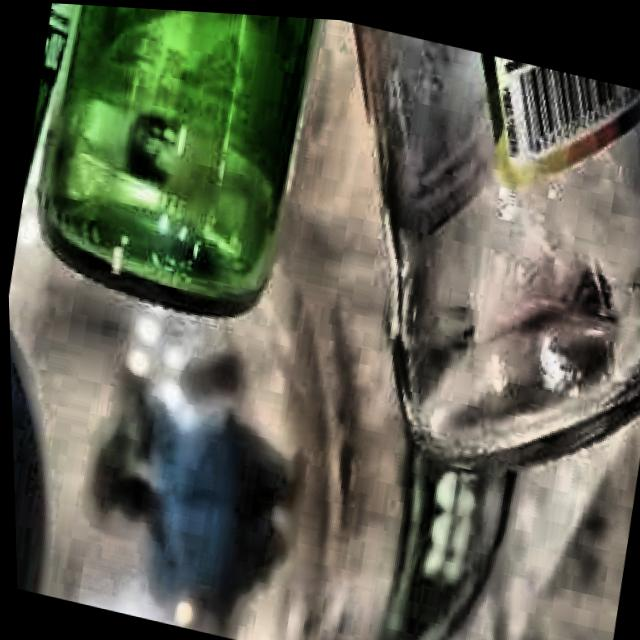glass: (356, 18, 640, 454)
